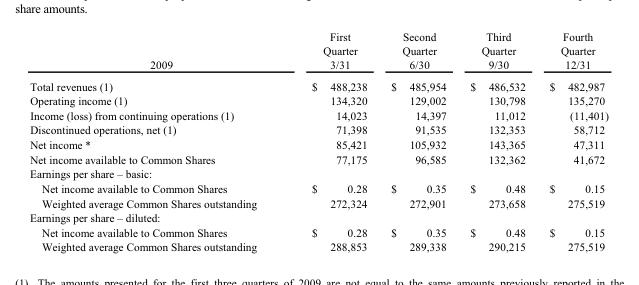table: (29, 28, 607, 253)
table column: (29, 28, 283, 253), (283, 28, 378, 253), (378, 28, 457, 253), (457, 28, 536, 253), (536, 28, 607, 253)
table column header: (29, 28, 607, 74)
table projected row header: (29, 209, 607, 224), (29, 166, 607, 180)
table row: (29, 28, 607, 74), (29, 74, 607, 92), (29, 92, 607, 107), (29, 107, 607, 122), (29, 136, 607, 151), (29, 151, 607, 166), (29, 180, 607, 195), (29, 209, 607, 224), (29, 224, 607, 239), (29, 122, 607, 136), (29, 166, 607, 180), (29, 195, 607, 209), (29, 239, 607, 253)
